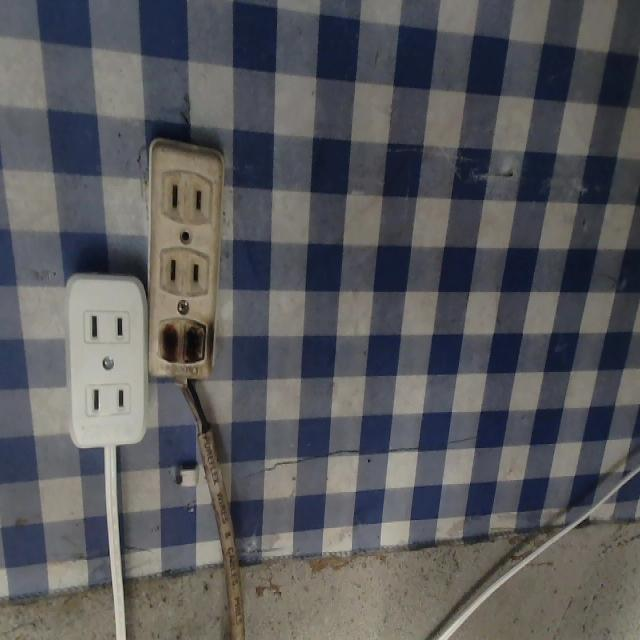-: (151, 312, 214, 373)
